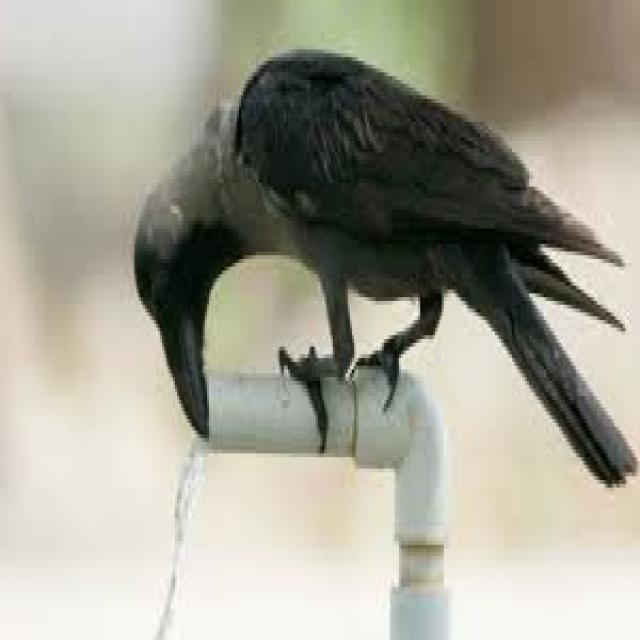crow: (133, 167, 399, 377)
